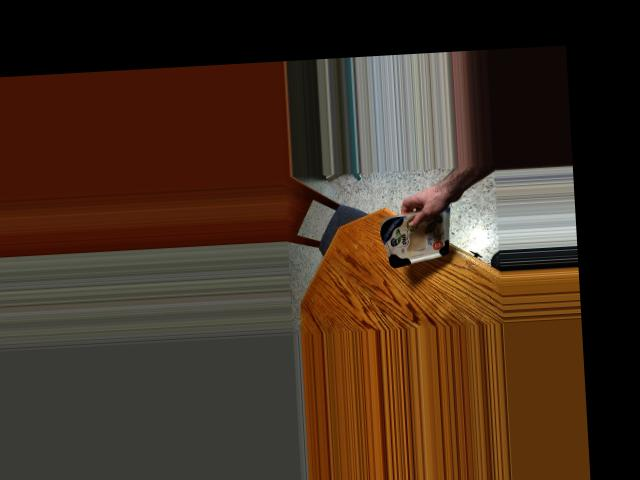cheese: (377, 201, 455, 268)
